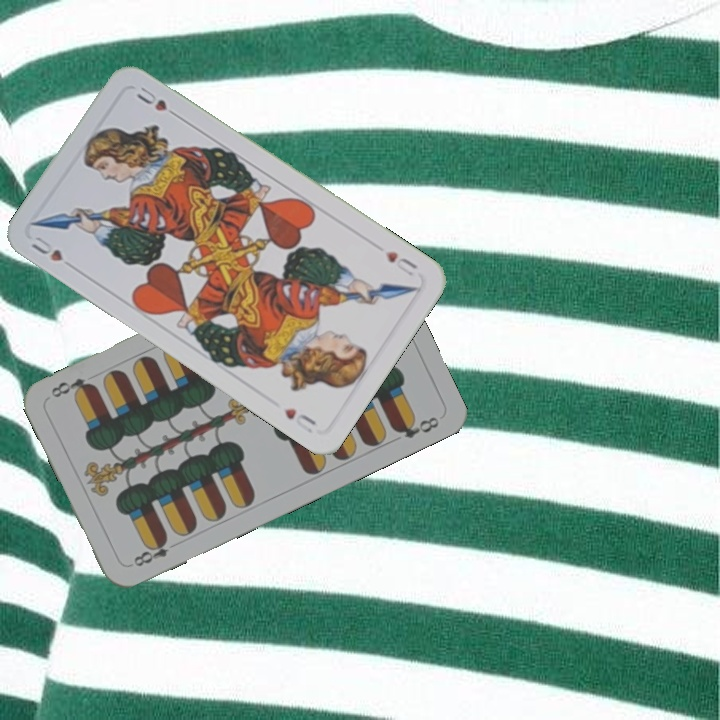E8: (129, 533, 171, 569)
HU: (27, 232, 66, 265), (381, 247, 420, 279)
